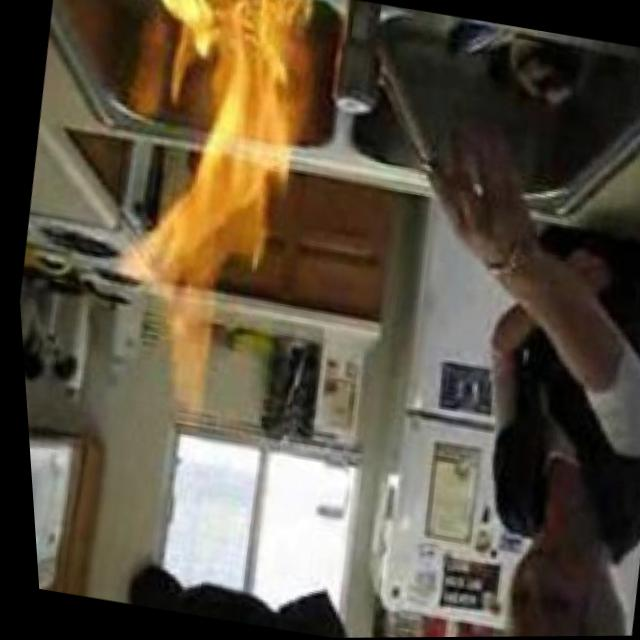Fire: (88, 0, 330, 411)
